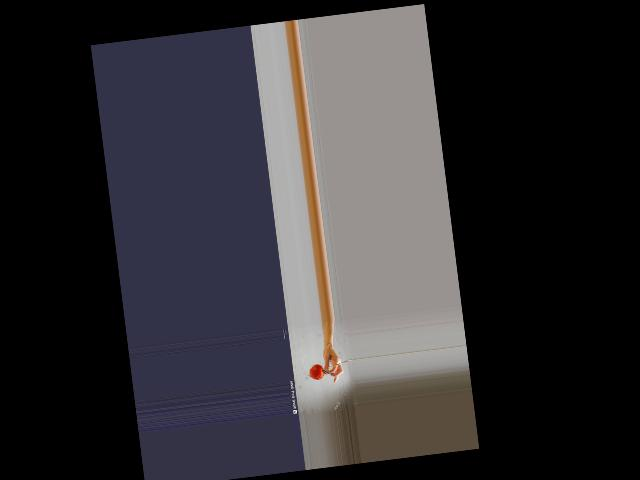tomato: (307, 362, 324, 379)
